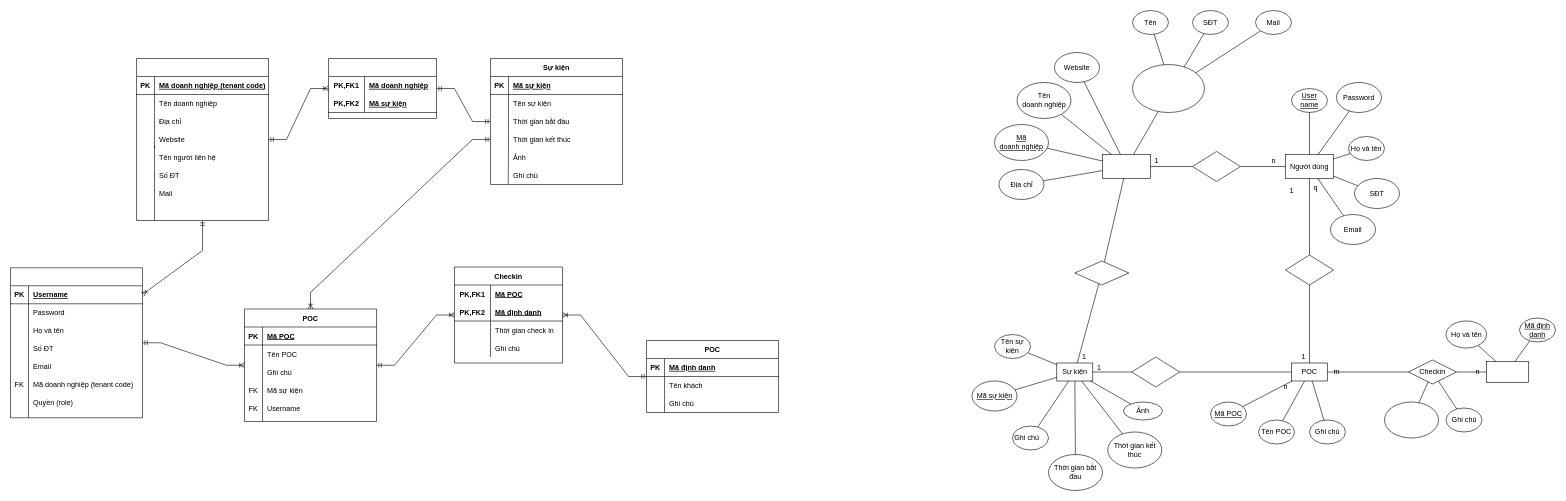
This 1566x501 diagram has some shape labels left out. The shapes that lost their labels are listed below. From the top down, each one's box as (x1, y1, x2, y2) in pixels, then its label:
(328, 58, 436, 118): Tổ chức sự kiện
(1132, 64, 1204, 112): Đại diện liên hệ
(136, 58, 268, 220): Doanh nghiệp (Ban tổ chức)
(1102, 154, 1150, 178): Doanh nghiệp
(1192, 151, 1240, 182): Phân công
(1074, 260, 1129, 285): Đăng ký
(1285, 254, 1334, 285): Phụ trách
(10, 267, 142, 418): Người dùng (account)
(1131, 356, 1180, 387): Đặt POC
(1486, 361, 1528, 382): Khách checkin
(1384, 401, 1438, 438): Thời gian checkin
